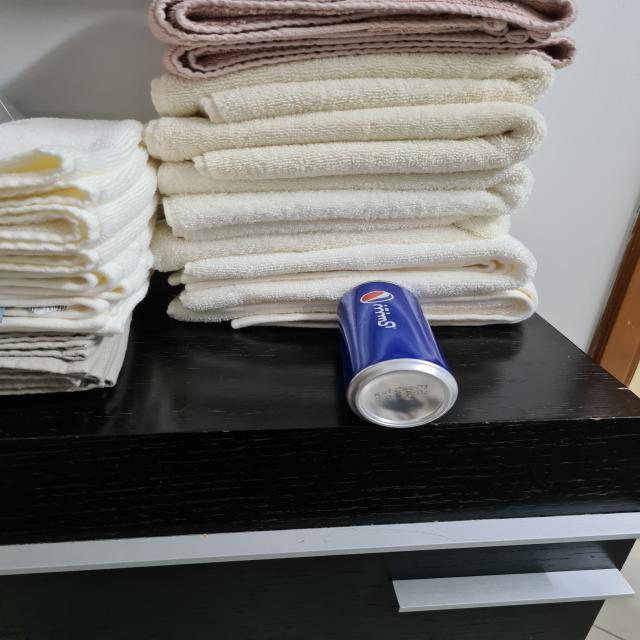can: (340, 278, 460, 428)
